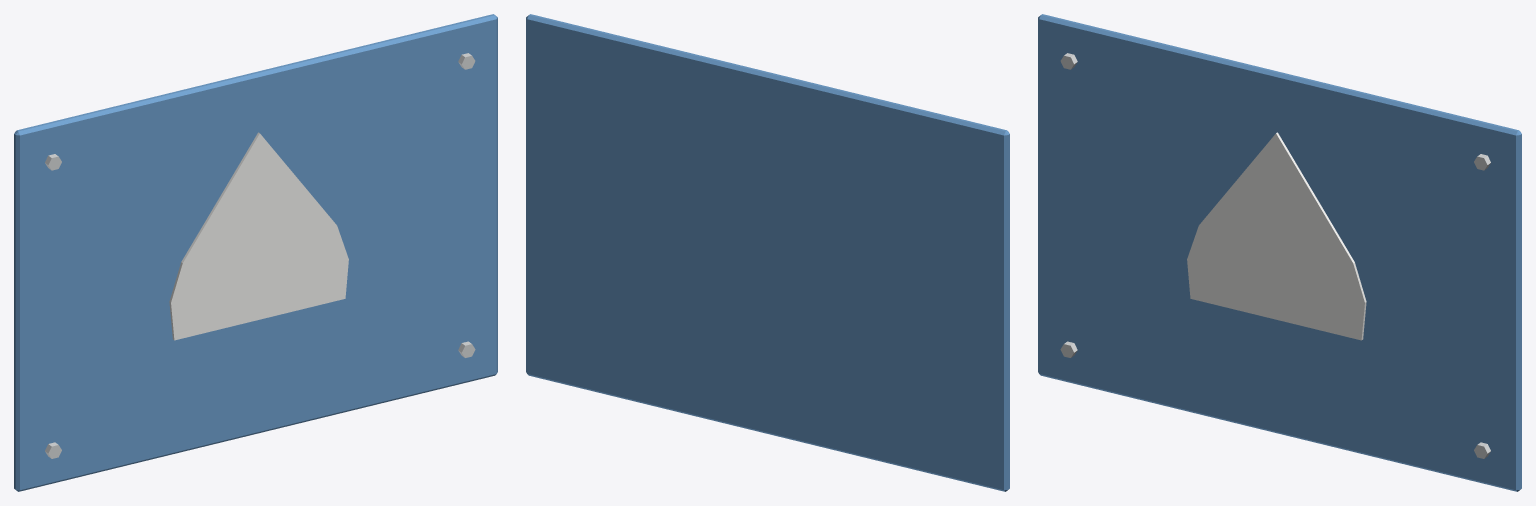
File: sign_plate.glb
The picture shows the model from 3 angles, left to right: view 1: azimuth 30°, elevation 25°; view 2: azimuth 150°, elevation 25°; view 3: azimuth 330°, elevation 25°; orthographic projection.
Visible parts, largest first — view 1: sign_plate_sign_b, sign_plate_paint_w, sign_plate_galv; view 2: sign_plate_sign_b; view 3: sign_plate_sign_b, sign_plate_paint_w, sign_plate_galv.
Boxes of the visible parts, bbox=[...] form: sign_plate_sign_b: bbox=[14, 14, 497, 491]; sign_plate_paint_w: bbox=[169, 132, 348, 340]; sign_plate_galv: bbox=[45, 53, 475, 458]; sign_plate_sign_b: bbox=[526, 14, 1009, 491]; sign_plate_sign_b: bbox=[1038, 14, 1521, 491]; sign_plate_paint_w: bbox=[1187, 132, 1366, 340]; sign_plate_galv: bbox=[1060, 53, 1490, 458].
Size of the model in its own units: 0.7 by 0.5 by 0.021.
